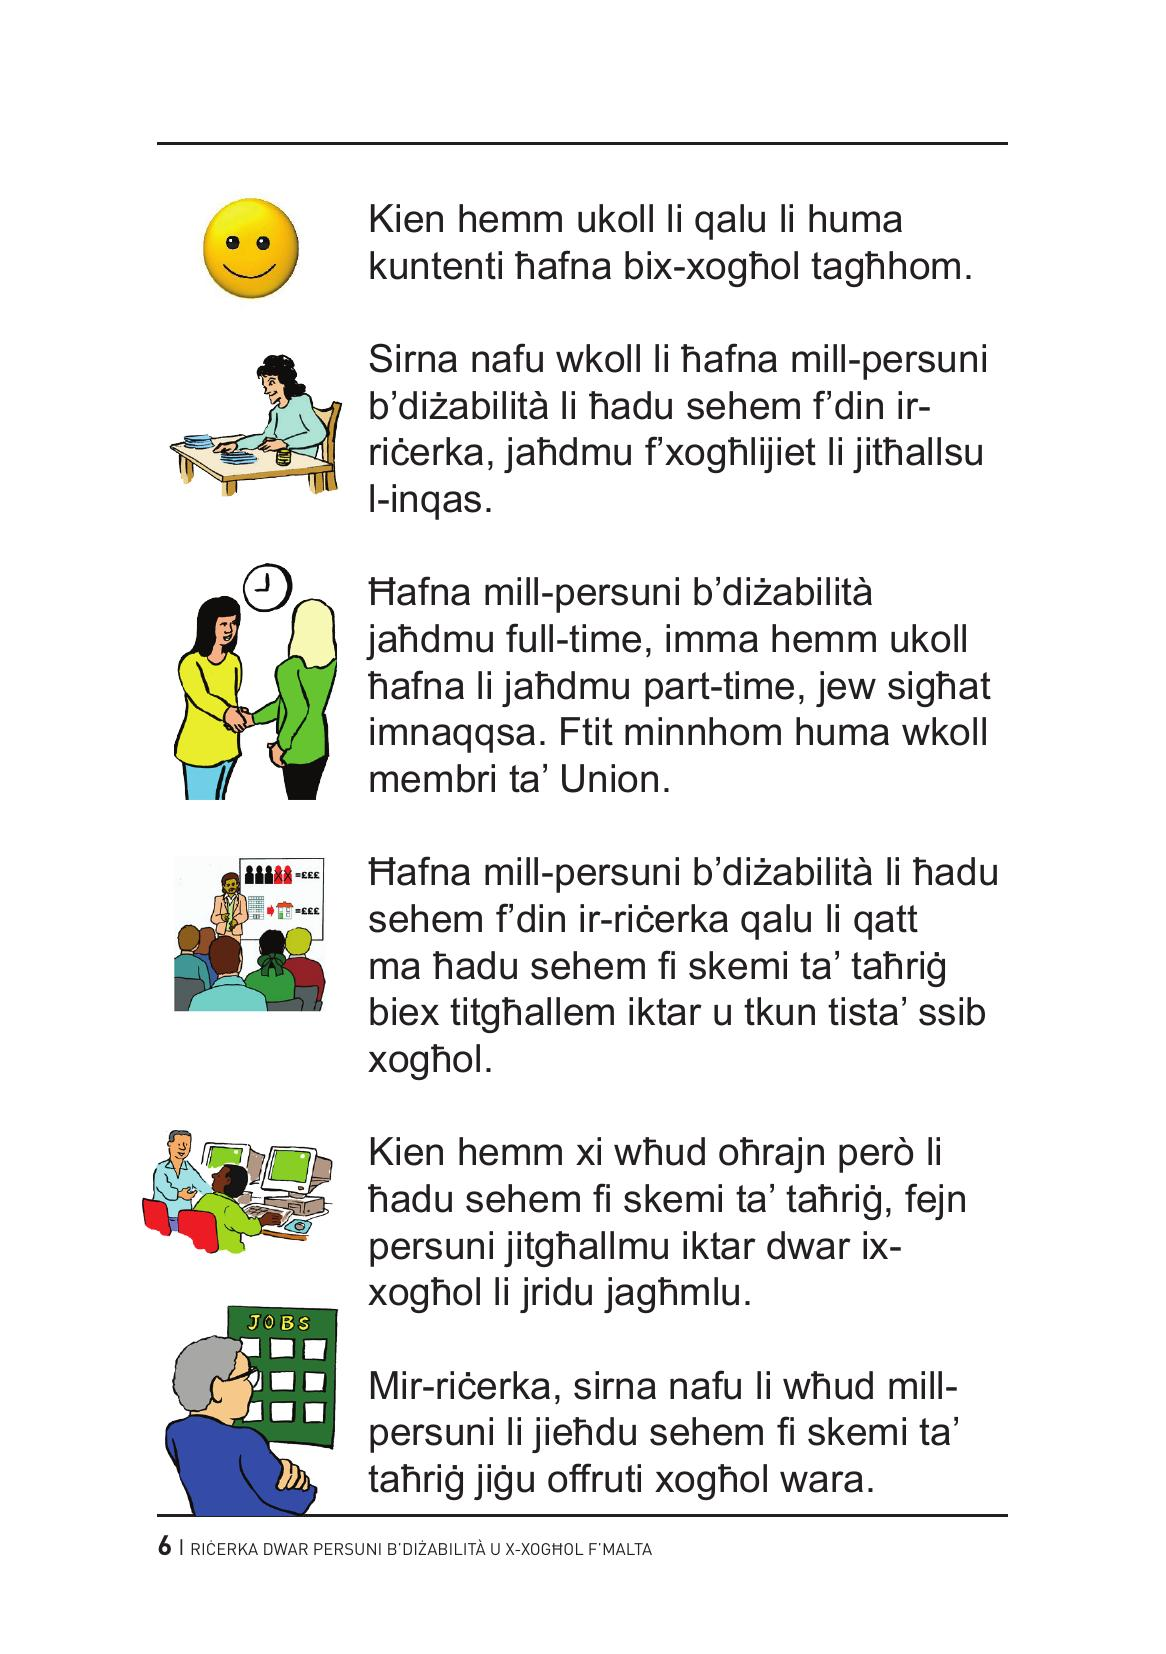text: (351, 185, 1039, 1506)
